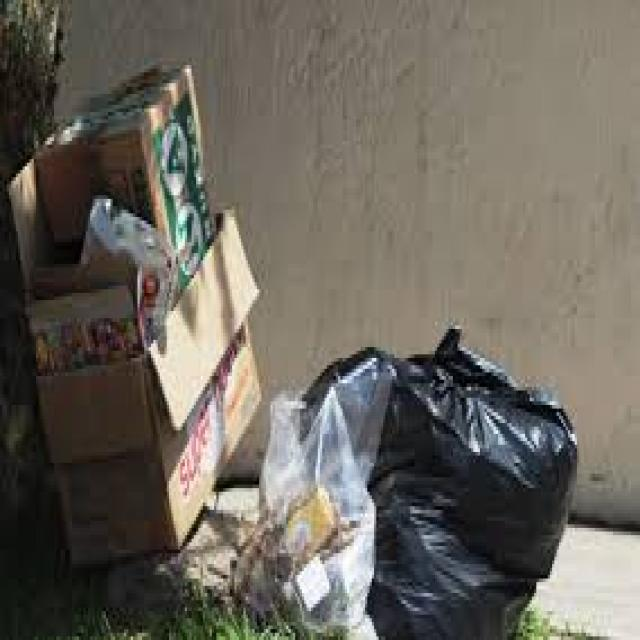garbage: (1, 74, 594, 640)
